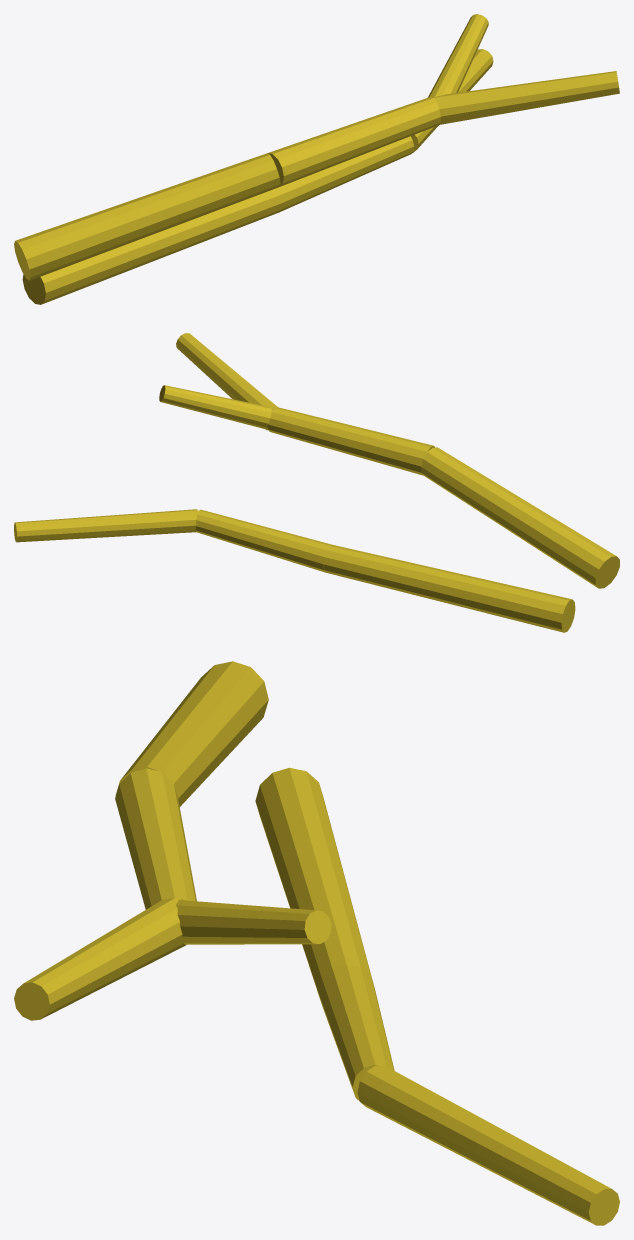
Rendered from renal_nerves.glb.
3 views of the same model, one above another, from view 1: azimuth 30°, elevation 25°; view 2: azimuth 150°, elevation 25°; view 3: azimuth 270°, elevation 25° (orthographic). The views are drawn at different scales.
Parts seen in each view (by area): view 1: geometry_0; view 2: geometry_0; view 3: geometry_0.
Boxes of the visible parts, x1,y1,x2,y2 form: geometry_0: (14, 14, 619, 304); geometry_0: (14, 333, 619, 632); geometry_0: (14, 661, 619, 1225).
Bounding box in the file's own units: 20.4 × 5.88 × 10.59.
